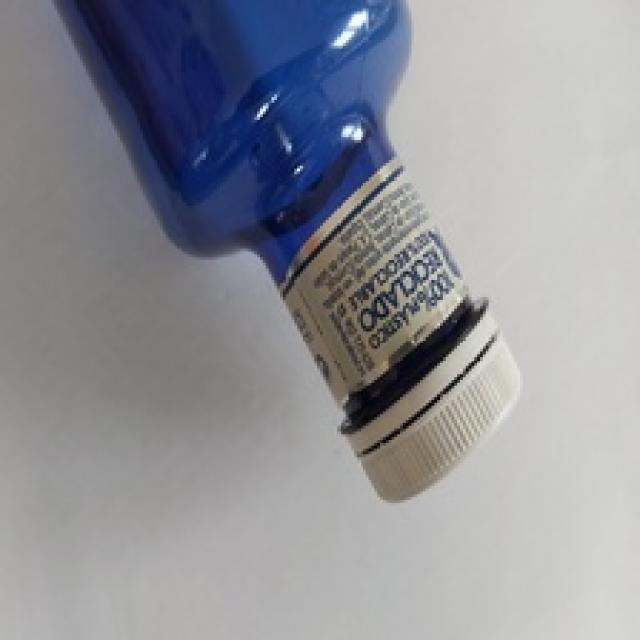Plastic: (48, 0, 520, 504)
